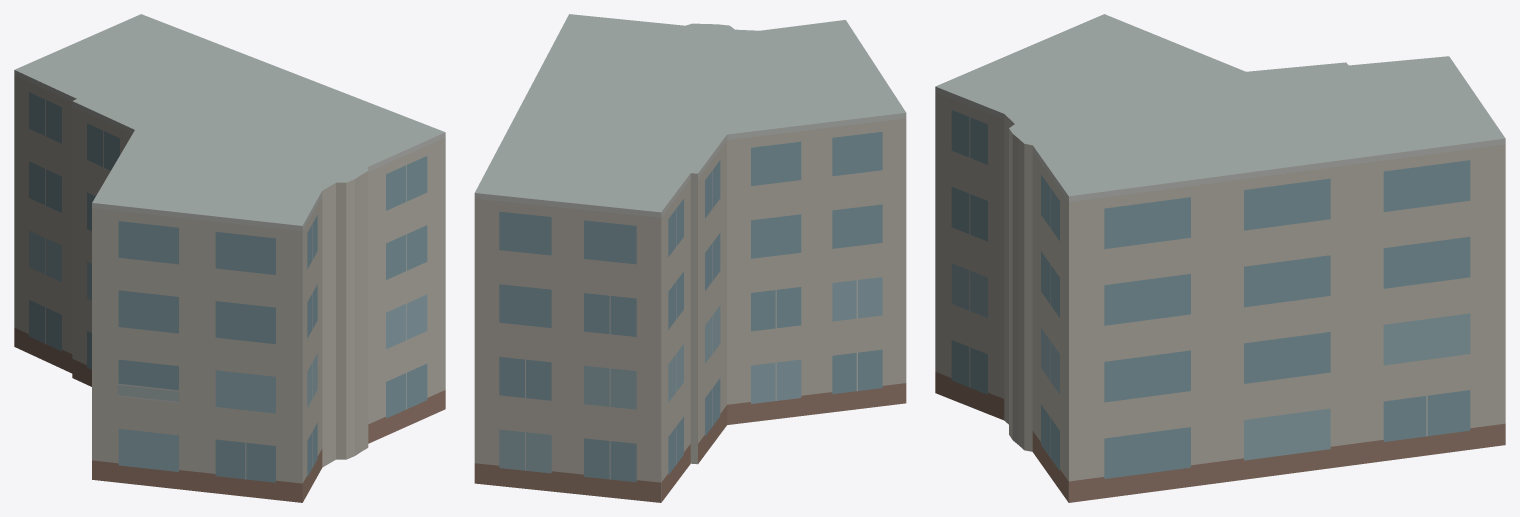
File: survey-upis-32523974.glb
The picture shows the model from 3 angles, left to right: view 1: azimuth 30°, elevation 25°; view 2: azimuth 150°, elevation 25°; view 3: azimuth 270°, elevation 25°; orthographic projection. The views are drawn at different scales.
Visible parts, largest first — view 1: survey-upis-32523974.tmp; view 2: survey-upis-32523974.tmp; view 3: survey-upis-32523974.tmp.
Part boxes in pixels (x1=…): survey-upis-32523974.tmp: x1=14, y1=14, x2=445, y2=502; survey-upis-32523974.tmp: x1=474, y1=14, x2=906, y2=502; survey-upis-32523974.tmp: x1=935, y1=14, x2=1505, y2=502.
Bounding box in the file's own units: 16.33 × 12.8 × 21.59.
